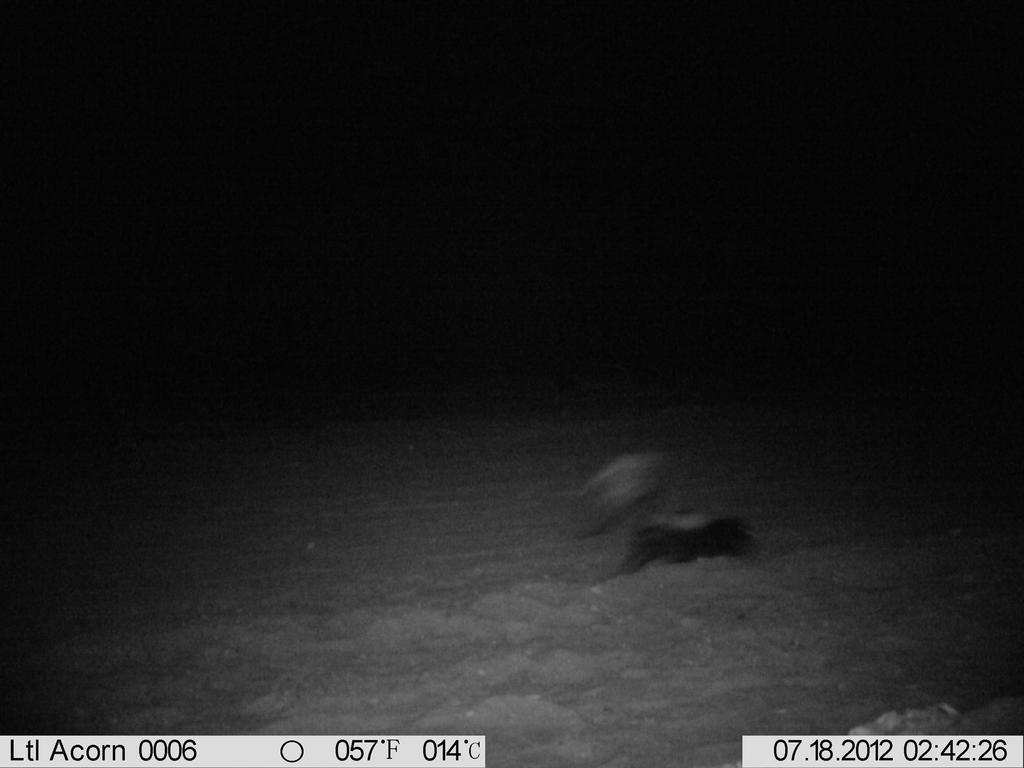skunk: (575, 428, 759, 578)
